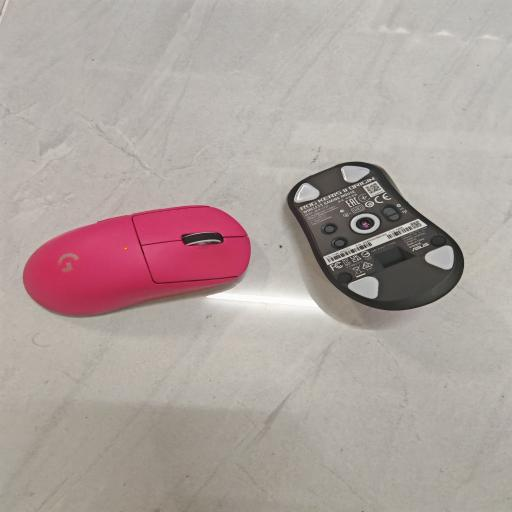mouse: (288, 162, 466, 310), (23, 206, 250, 316)
